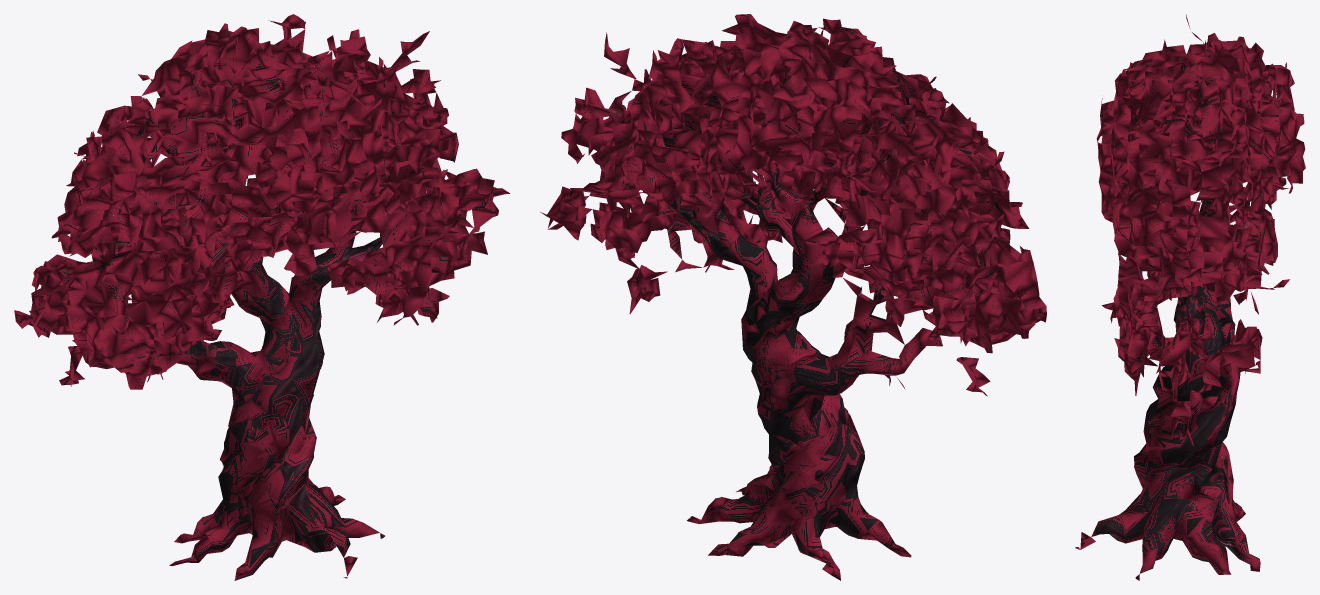
The model's file is tree.glb.
The picture shows the model from 3 angles, left to right: view 1: azimuth 30°, elevation 25°; view 2: azimuth 150°, elevation 25°; view 3: azimuth 270°, elevation 25°; orthographic projection. The views are drawn at different scales.
Size of the model in its own units: 1.78 by 1.9 by 0.7939.
Materials: 1 (1 with a texture image).
